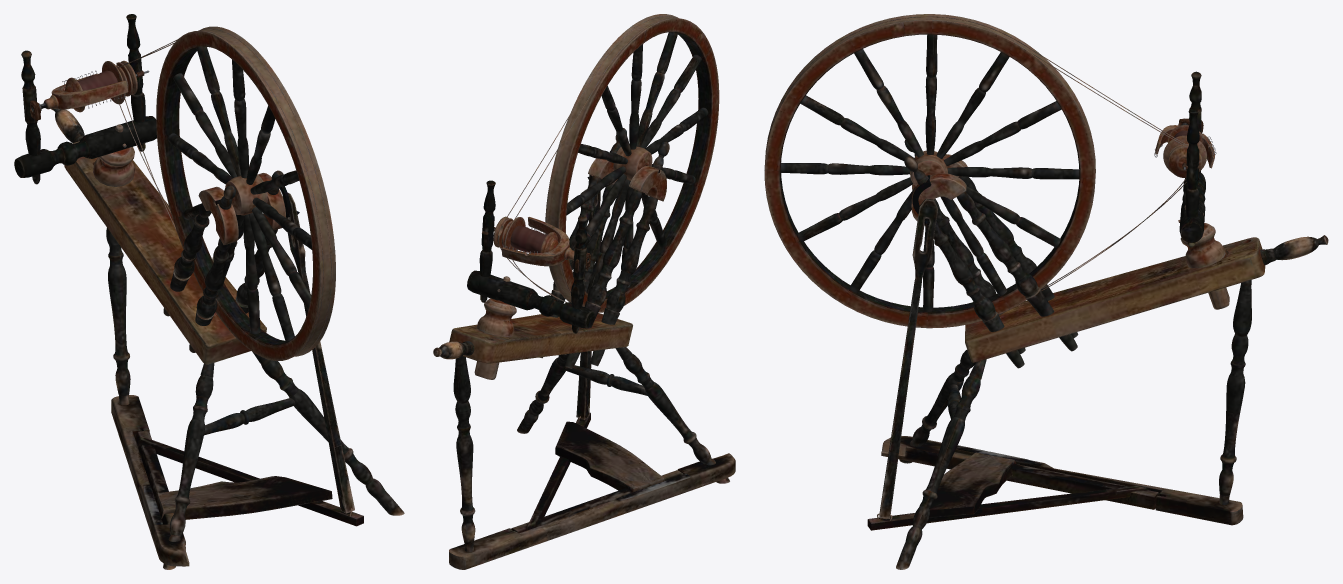
3 views of the same model, side by side, from view 1: azimuth 30°, elevation 25°; view 2: azimuth 150°, elevation 25°; view 3: azimuth 270°, elevation 25° (orthographic). The views are drawn at different scales.
Parts seen in each view (by area): view 1: spinning_wheel_01; view 2: spinning_wheel_01; view 3: spinning_wheel_01.
Part boxes in pixels (bbox=[...]): spinning_wheel_01: bbox=[14, 14, 404, 569]; spinning_wheel_01: bbox=[433, 14, 735, 569]; spinning_wheel_01: bbox=[764, 14, 1328, 569].
Bounding box in the file's own units: 0.4894 × 0.9662 × 1.02.
1 material, 1 textured.
